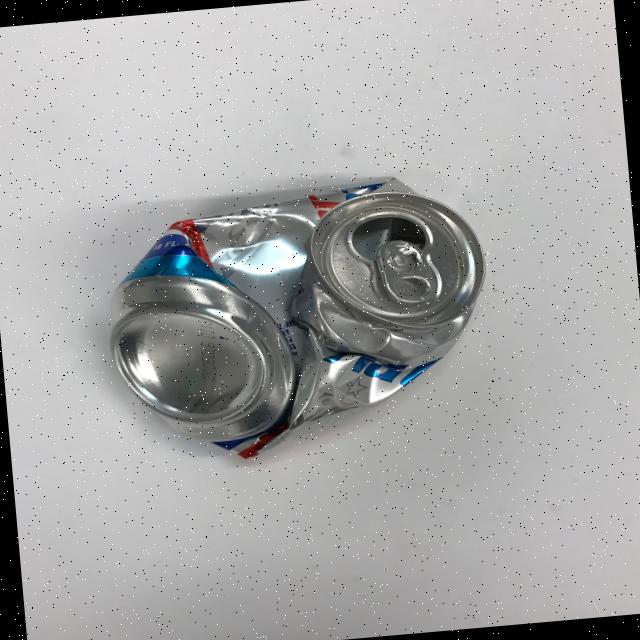metal: (96, 170, 500, 470)
